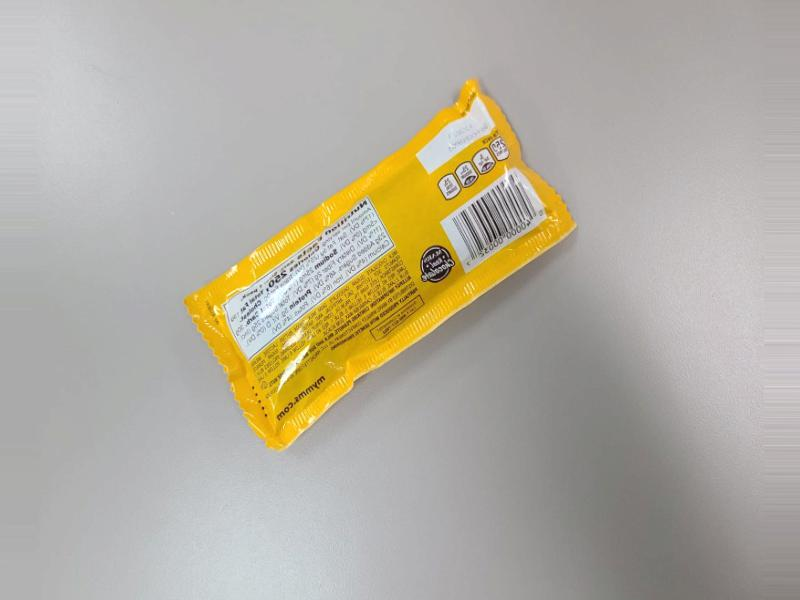m&m: (211, 76, 541, 429)
